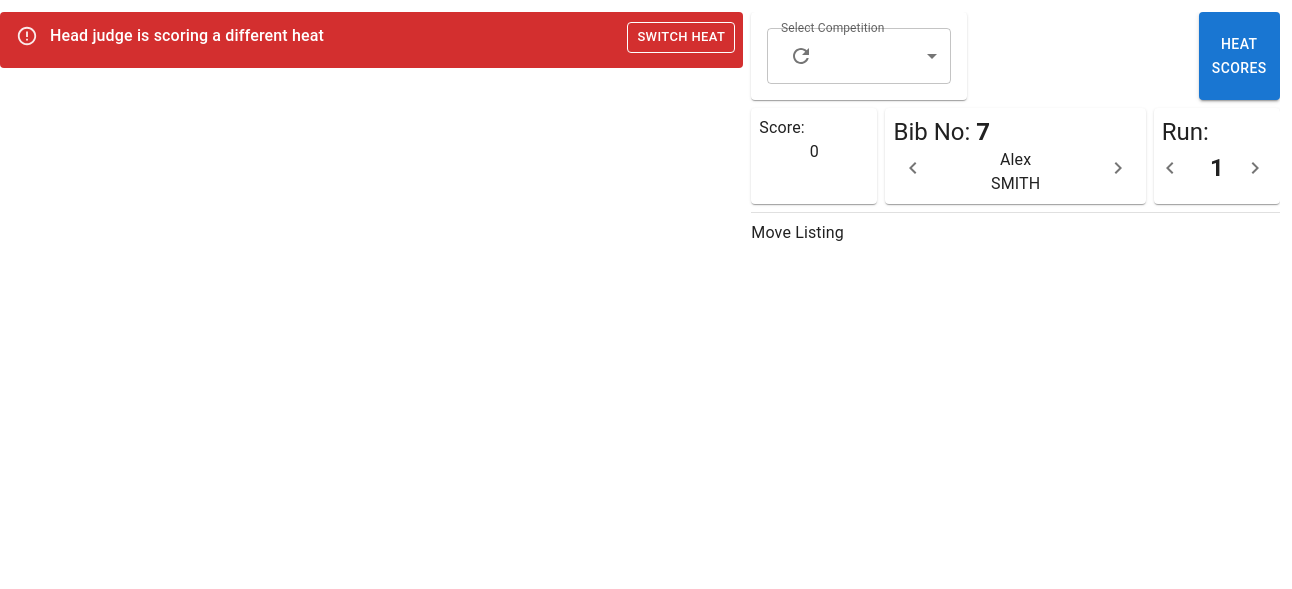
Scribe head judge mismatch banner › Switch heat lands the scribe on the head judge's athlete in the new heat
Expected: the heading with test id "display-bib-number" shows "7", [976,118,990,146]
Click the button "Switch heat" at (681, 37), box [627,22,735,53]
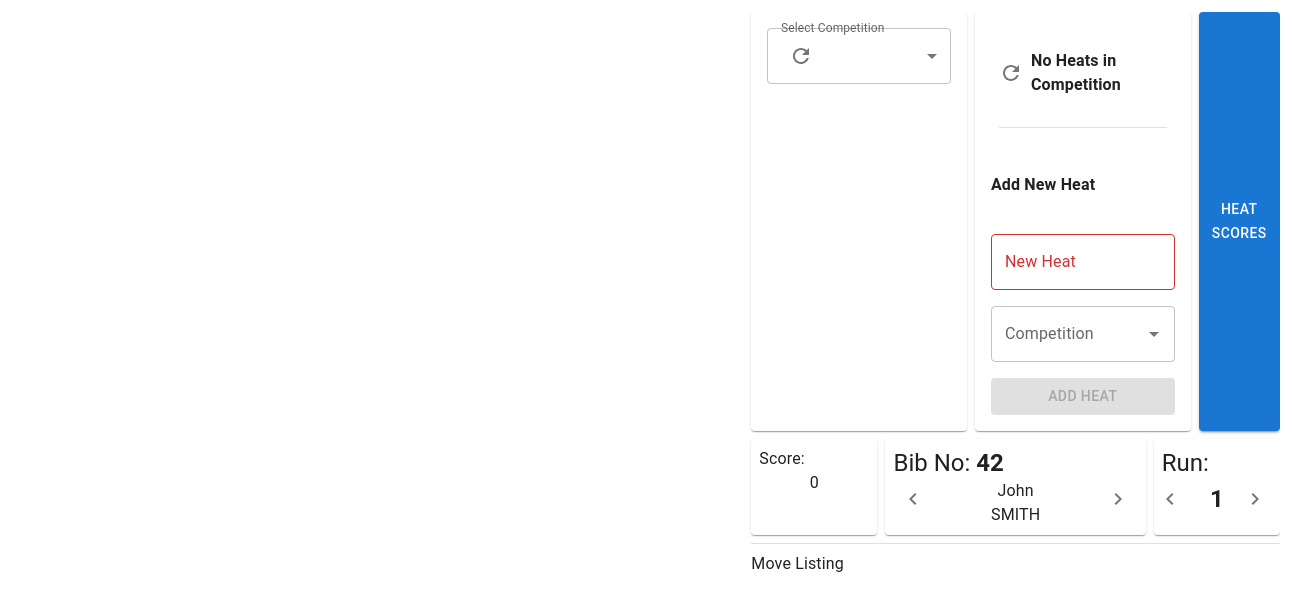
Now the heading with test id "display-bib-number" shows "42", box [976,449,1004,477]
Now the message with test id "head-judge-mismatch-banner" is gone
